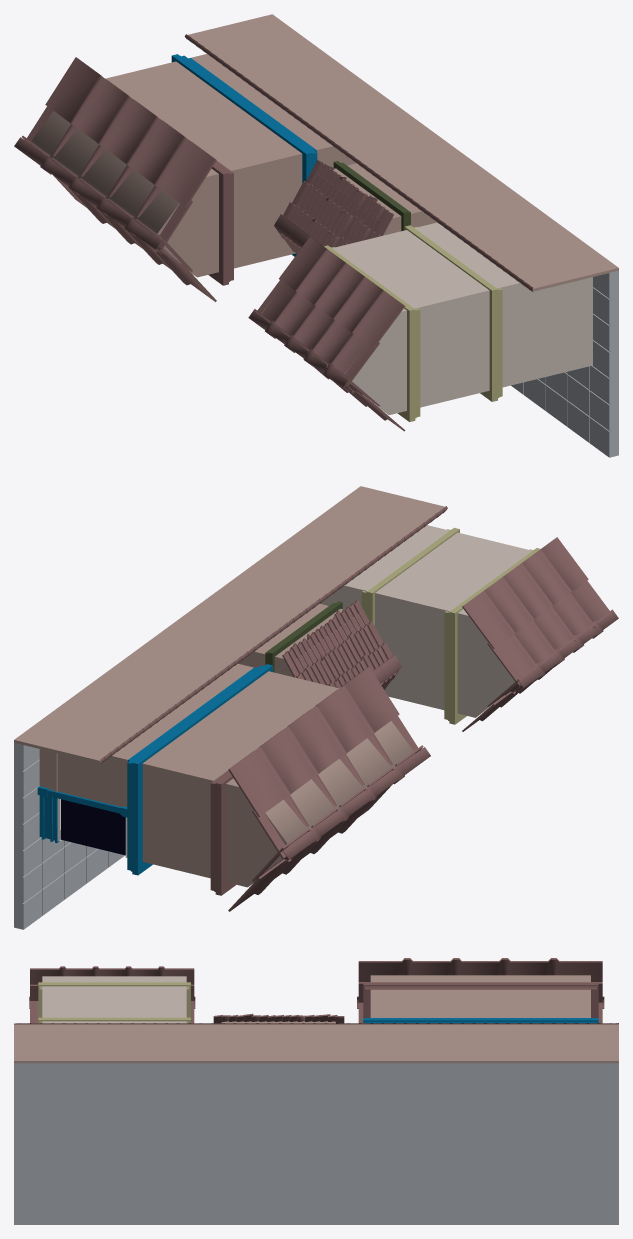
File: House01.fbx
3 renders of one model, top to bottom at view 1: azimuth 30°, elevation 25°; view 2: azimuth 150°, elevation 25°; view 3: azimuth 270°, elevation 25°, orthographic. The views are drawn at different scales.
Parts seen in each view (by area): view 1: Box985; view 2: Box985; view 3: Box985.
Part boxes in pixels (x1,y1,x2,y2): Box985: [14, 14, 618, 457]; Box985: [14, 486, 618, 929]; Box985: [14, 958, 618, 1224].
Size of the model in its own units: 25.24 by 18.32 by 56.47.
